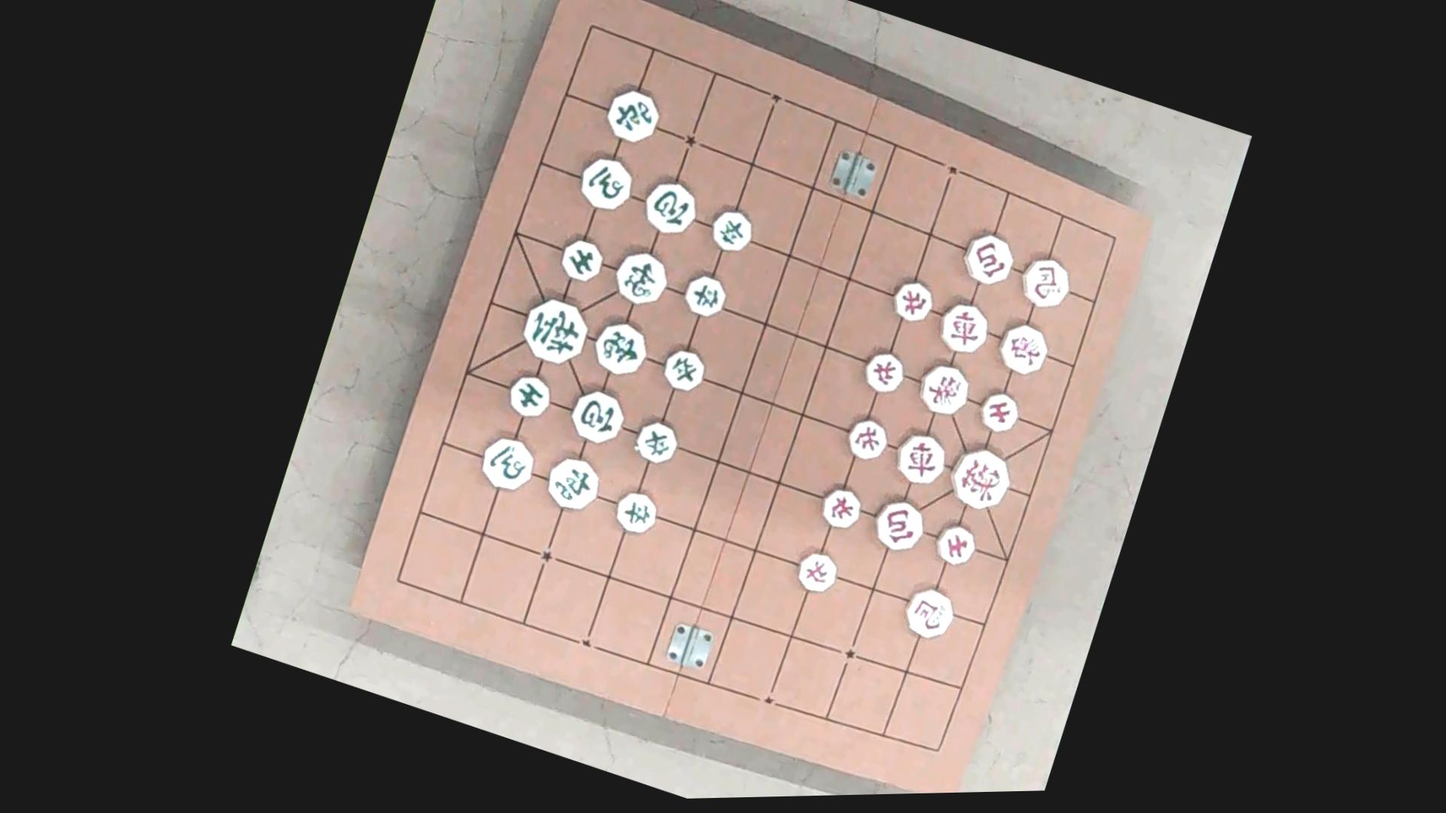cha_green: (539, 450, 606, 516), (599, 84, 666, 148)
cha_red: (890, 428, 952, 489), (933, 297, 994, 358)
jol_green: (679, 270, 732, 321), (610, 487, 663, 538), (657, 345, 709, 396), (630, 417, 682, 467), (706, 206, 758, 255)
jol_red: (887, 276, 938, 326), (792, 548, 842, 598), (816, 483, 866, 532), (842, 416, 892, 464), (859, 348, 909, 396)
ma_green: (475, 431, 540, 495), (573, 152, 638, 215)
ma_red: (898, 583, 960, 644), (1014, 252, 1075, 313)
po_green: (564, 383, 631, 448), (638, 176, 703, 239)
po_red: (956, 228, 1020, 290), (867, 495, 930, 556)
sa_green: (503, 371, 556, 421), (557, 235, 608, 285)
sa_red: (930, 519, 981, 570), (975, 387, 1024, 437)
sang_green: (587, 315, 654, 381), (607, 245, 675, 310)
sang_red: (992, 318, 1054, 379), (913, 359, 975, 420)
wang_green: (514, 291, 597, 371)
wang_red: (943, 443, 1018, 515)
